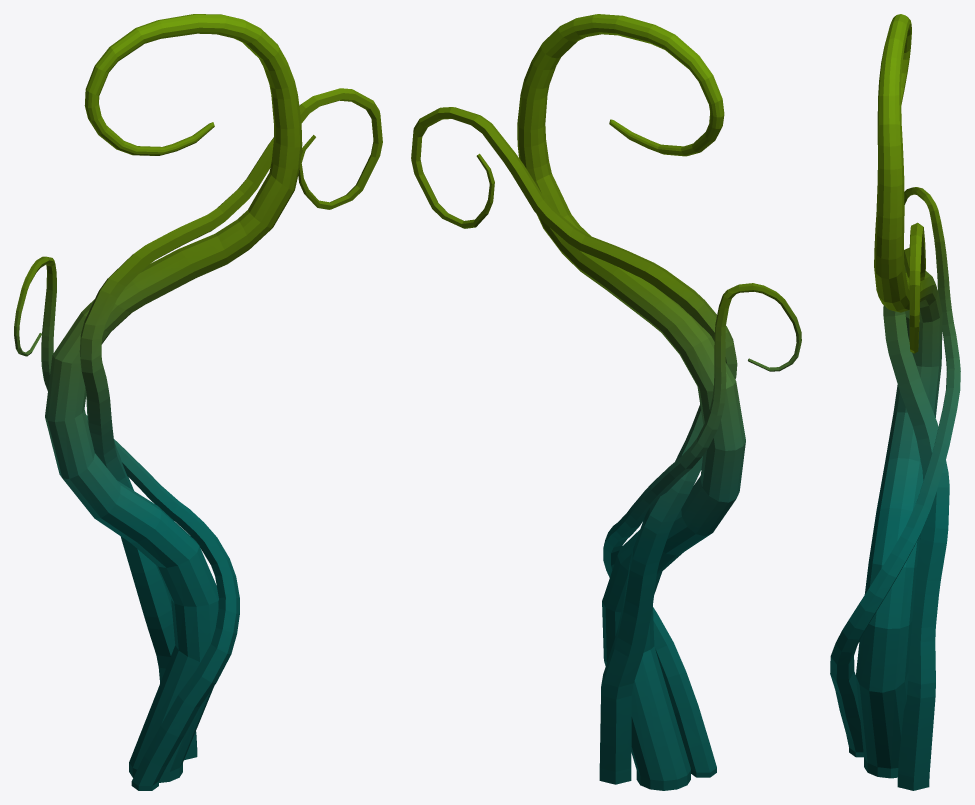
Rendered from Vine_1.fbx.
3 renders of one model, left to right at view 1: azimuth 30°, elevation 25°; view 2: azimuth 150°, elevation 25°; view 3: azimuth 270°, elevation 25°, orthographic.
Visible parts, largest first — view 1: Vine_1; view 2: Vine_1; view 3: Vine_1.
Boxes of the visible parts, x1,y1,x2,y2 form: Vine_1: (14,14,382,790); Vine_1: (411,14,801,790); Vine_1: (830,14,960,790).
Size of the model in its own units: 66.16 by 125 by 19.76.
